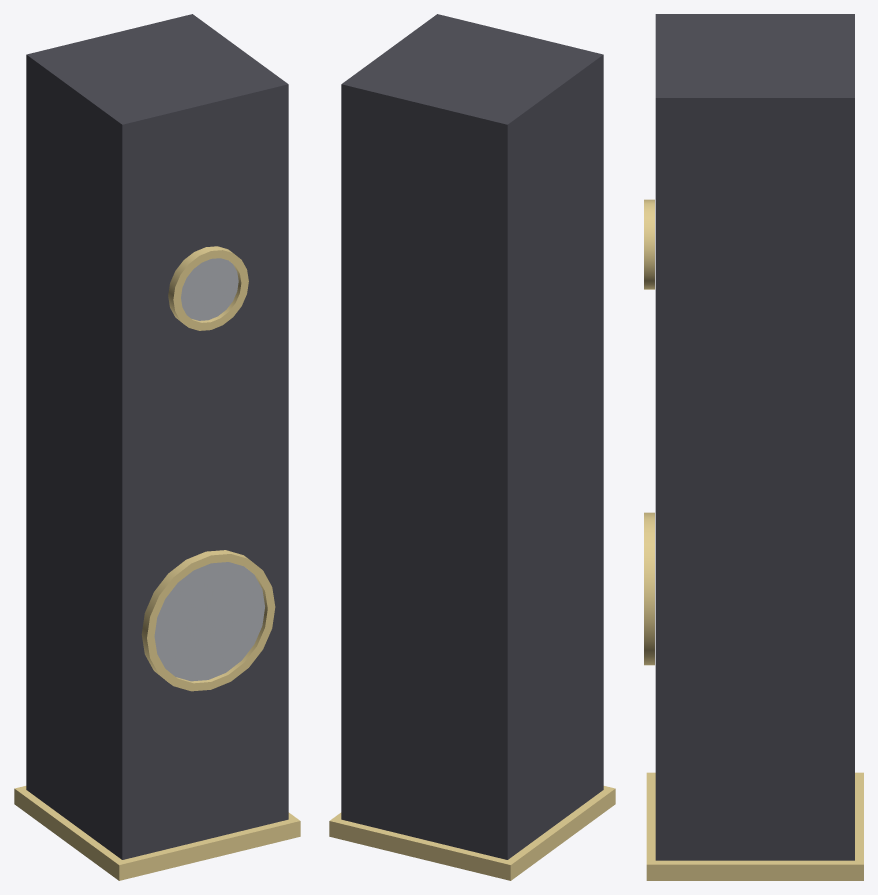
The model's file is bb_set_speaker.fbx.
3 views of the same model, side by side, from view 1: azimuth 30°, elevation 25°; view 2: azimuth 150°, elevation 25°; view 3: azimuth 270°, elevation 25° (orthographic). The views are drawn at different scales.
Visible parts, largest first — view 1: bb_set_speaker; view 2: bb_set_speaker; view 3: bb_set_speaker.
Part boxes in pixels (left/top/right/bottom): bb_set_speaker: left=14, top=14, right=300, bottom=880; bb_set_speaker: left=329, top=14, right=615, bottom=880; bb_set_speaker: left=644, top=14, right=863, bottom=880.
Bounding box in the file's own units: 0.24 × 0.95 × 0.243.
